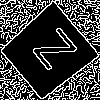Z: (23, 26, 78, 79)
